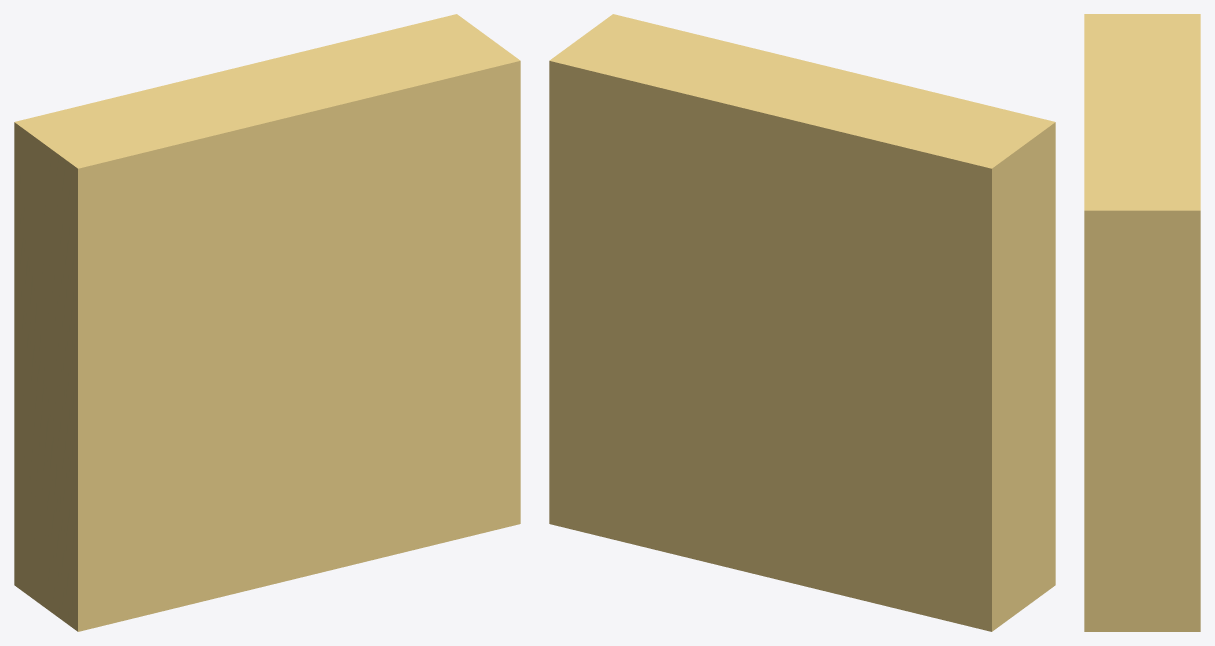
File: TileCover.FBX
3 views of the same model, side by side, from view 1: azimuth 30°, elevation 25°; view 2: azimuth 150°, elevation 25°; view 3: azimuth 270°, elevation 25° (orthographic). The views are drawn at different scales.
Parts seen in each view (by area): view 1: VisualTile; view 2: VisualTile; view 3: VisualTile.
Part boxes in pixels (bbox=[...]): VisualTile: bbox=[14, 14, 520, 631]; VisualTile: bbox=[549, 14, 1055, 631]; VisualTile: bbox=[1084, 14, 1200, 631].
Size of the model in its own units: 0.0254 by 0.00635 by 0.0254.
